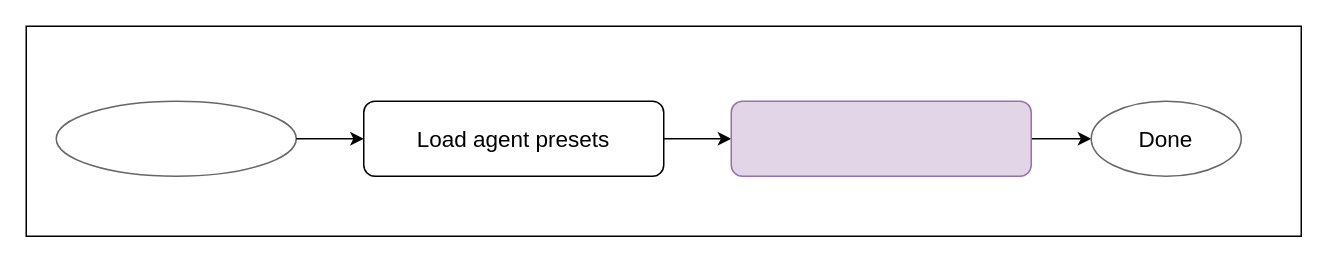
The diagram is 1328 pixels wide and 263 high, and some of its shapes have lost their labels. The shapes that lost their labels are listed below. From the top down, each one's centre as x and y in pixels, then its label:
pixel 175 138: Turn on devices
pixel 880 138: Start discovery loop (see discovery diagram)
